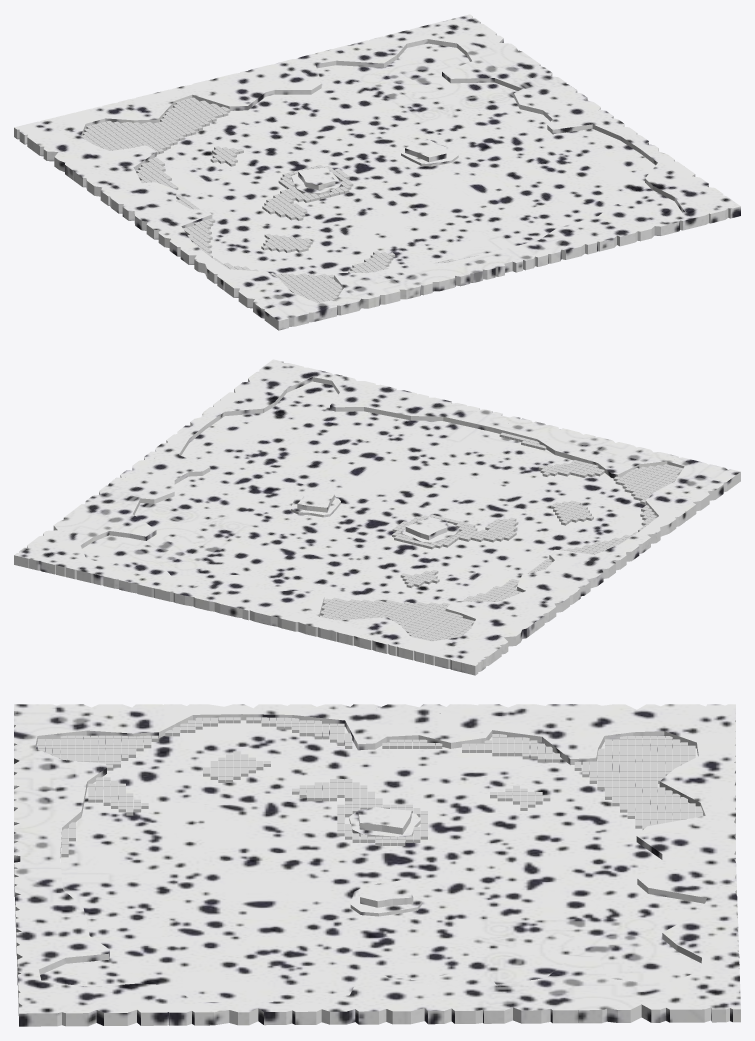
The model's file is MapPrototype.fbx.
3 views of the same model, one above another, from view 1: azimuth 30°, elevation 25°; view 2: azimuth 150°, elevation 25°; view 3: azimuth 270°, elevation 25° (orthographic). The views are drawn at different scales.
Parts seen in each view (by area): view 1: PlayArea, NotWalkabel; view 2: PlayArea, NotWalkabel; view 3: PlayArea, NotWalkabel.
Part boxes in pixels (box(x1,y1,x2,y2)): PlayArea: box(85, 43, 682, 280); NotWalkabel: box(14, 14, 740, 330); PlayArea: box(82, 381, 645, 616); NotWalkabel: box(14, 359, 740, 675); PlayArea: box(36, 720, 704, 1002); NotWalkabel: box(14, 704, 740, 1026).
Bounding box in the file's own units: 20267 × 514 × 20140.
